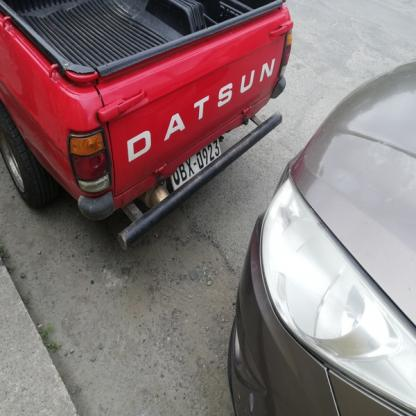Placa: (156, 136, 232, 189)
